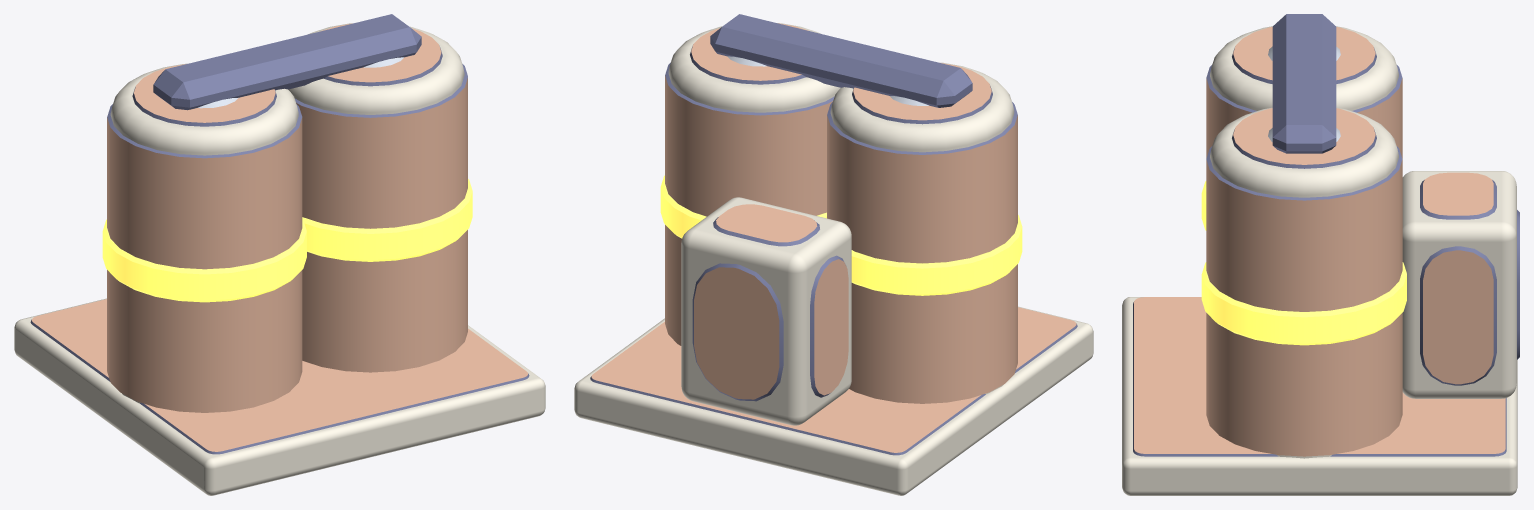
The model's file is R4X_Battery.fbx.
The picture shows the model from 3 angles, left to right: view 1: azimuth 30°, elevation 25°; view 2: azimuth 150°, elevation 25°; view 3: azimuth 270°, elevation 25°; orthographic projection. The views are drawn at different scales.
Parts seen in each view (by area): view 1: R4X_Battery_Body; view 2: R4X_Battery_Body; view 3: R4X_Battery_Body.
Part boxes in pixels (left/top/right/bottom): R4X_Battery_Body: left=14, top=14, right=545, bottom=495; R4X_Battery_Body: left=574, top=14, right=1093, bottom=495; R4X_Battery_Body: left=1122, top=14, right=1519, bottom=495.
Bounding box in the file's own units: 0.5167 × 0.4986 × 0.517.
